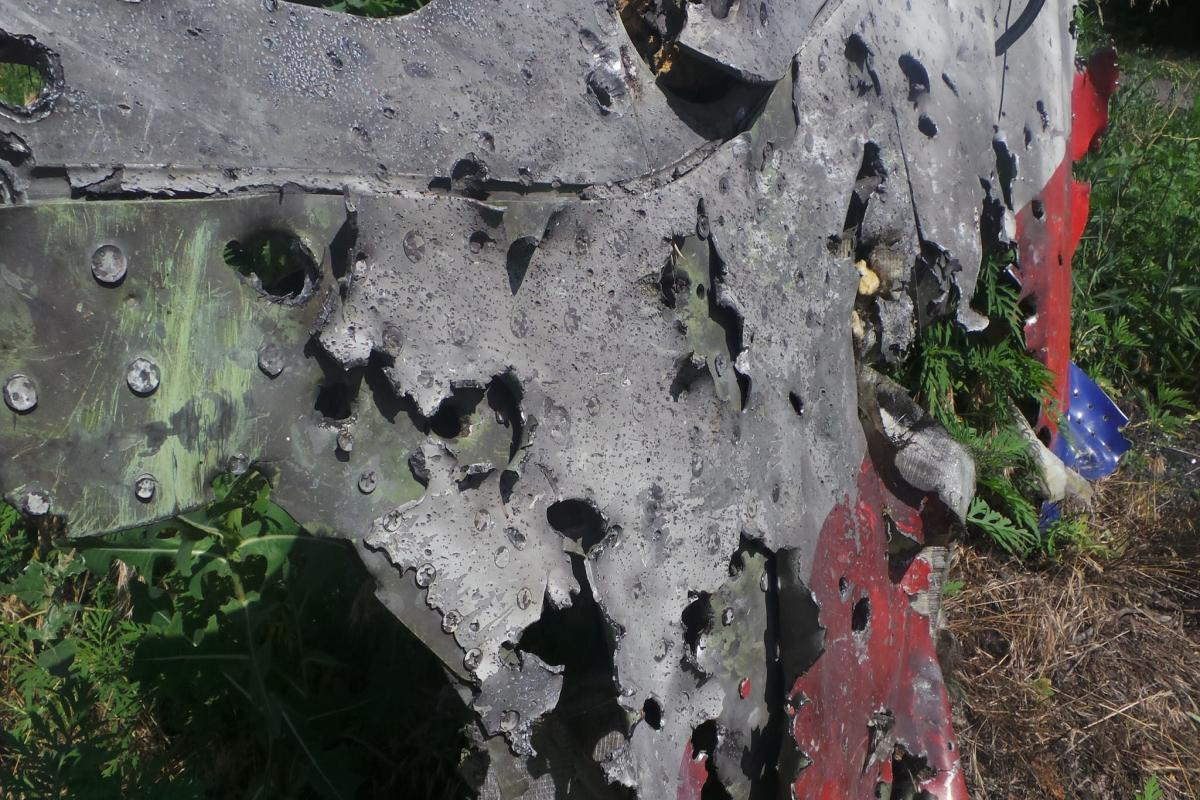Fuselage_damage: (70, 215, 272, 530), (463, 490, 647, 777), (668, 524, 841, 796), (304, 319, 545, 497), (362, 501, 527, 759), (823, 132, 989, 368), (617, 5, 813, 182), (0, 128, 339, 218), (976, 162, 1058, 434), (657, 213, 759, 422), (1059, 12, 1125, 266), (218, 216, 331, 321), (558, 15, 646, 120), (852, 701, 942, 799), (0, 23, 84, 123), (417, 142, 507, 222), (193, 442, 289, 510), (476, 194, 565, 263), (324, 203, 365, 317), (307, 374, 365, 441), (883, 35, 938, 105), (990, 116, 1028, 208), (840, 24, 879, 109), (846, 587, 885, 652), (777, 385, 815, 432)
